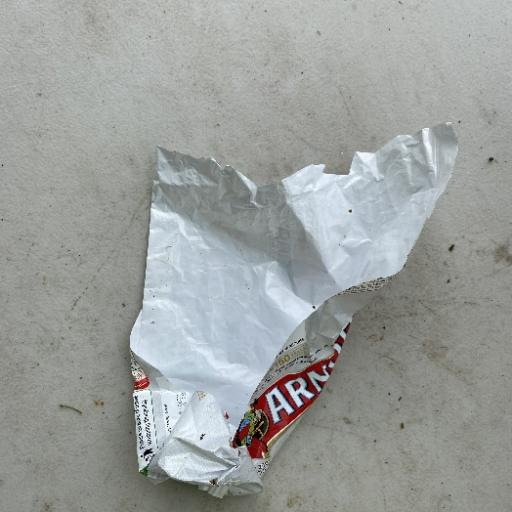Plastic: (126, 120, 460, 498)
